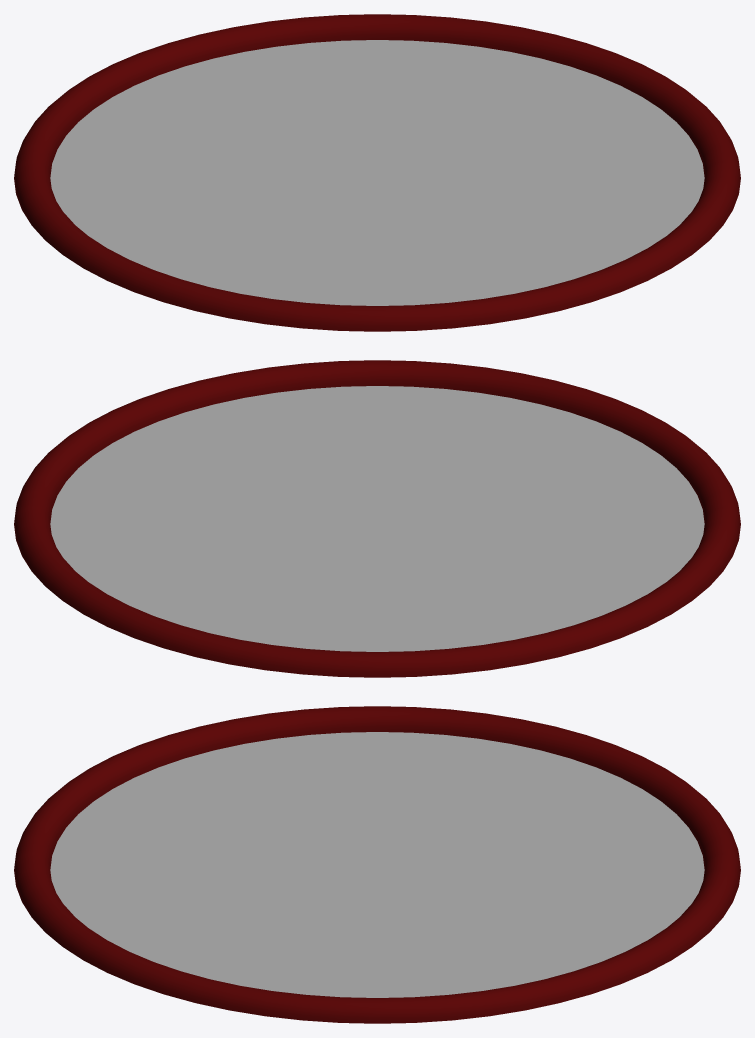
Rendered from Buildings_Standin.fbx.
3 renders of one model, top to bottom at view 1: azimuth 30°, elevation 25°; view 2: azimuth 150°, elevation 25°; view 3: azimuth 270°, elevation 25°, orthographic.
Parts seen in each view (by area): view 1: Radar; view 2: Radar; view 3: Radar.
Boxes of the visible parts, bbox=[...] form: Radar: bbox=[14, 14, 740, 331]; Radar: bbox=[14, 360, 740, 677]; Radar: bbox=[14, 706, 740, 1023].
Size of the model in its own units: 1 by 0.025 by 1.
